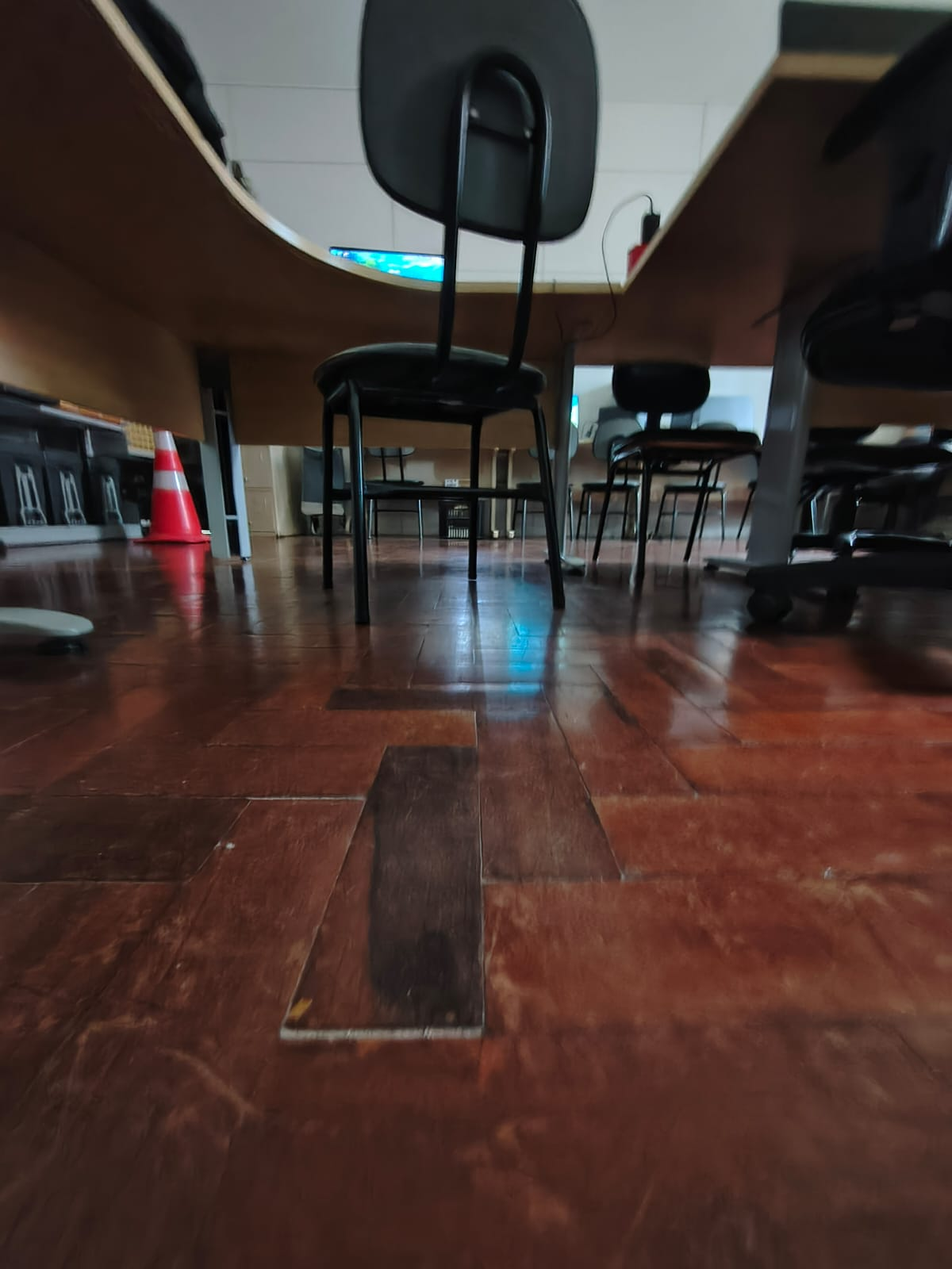cone: (135, 416, 212, 555)
